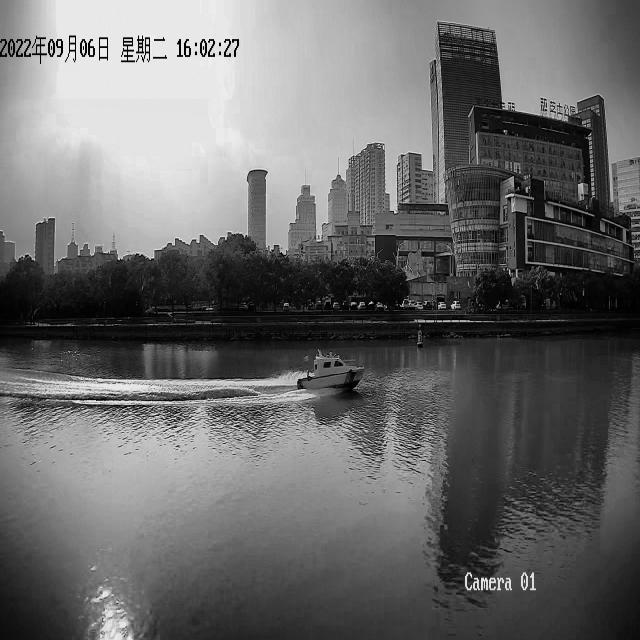ship: (296, 347, 364, 389)
